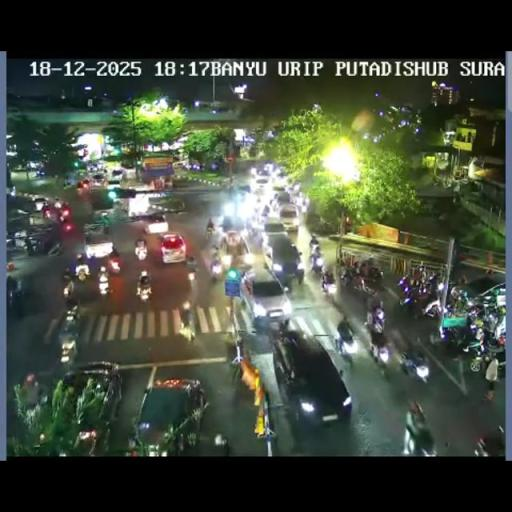Car: (270, 329, 350, 426), (132, 377, 207, 455), (60, 362, 122, 426), (240, 268, 290, 328), (19, 224, 61, 255), (122, 194, 172, 220), (84, 230, 114, 260), (160, 234, 187, 263), (263, 220, 288, 246), (250, 166, 275, 190), (278, 202, 299, 230), (90, 189, 116, 211), (144, 215, 169, 234), (272, 172, 291, 190), (90, 172, 108, 187), (107, 169, 123, 183), (33, 197, 49, 211)
Motorcycle: (434, 326, 472, 362), (474, 324, 504, 366), (402, 422, 436, 456), (398, 286, 429, 318), (400, 350, 430, 382), (474, 426, 504, 456), (332, 330, 355, 366), (349, 273, 378, 301), (369, 337, 392, 372), (196, 432, 229, 454), (178, 302, 196, 341), (279, 325, 302, 354), (6, 283, 25, 315), (59, 334, 78, 366), (222, 330, 238, 368), (60, 306, 80, 335), (366, 302, 384, 332), (247, 222, 266, 250), (448, 285, 470, 306), (464, 303, 486, 323), (136, 278, 152, 304), (422, 272, 438, 295), (96, 270, 110, 296), (322, 270, 336, 294), (210, 250, 222, 278), (309, 250, 324, 272), (111, 198, 126, 220), (234, 262, 253, 279), (108, 254, 123, 272), (62, 278, 74, 300), (294, 258, 305, 282), (220, 249, 233, 269), (186, 261, 198, 281), (290, 242, 302, 262), (58, 204, 72, 221), (75, 265, 89, 281), (286, 181, 302, 195), (135, 243, 147, 261), (398, 274, 410, 290), (358, 261, 370, 277), (309, 234, 319, 253), (259, 204, 270, 219), (204, 224, 214, 239), (458, 272, 468, 286), (299, 198, 308, 212), (352, 260, 360, 274), (110, 244, 119, 256), (102, 222, 110, 234), (76, 253, 84, 264)
